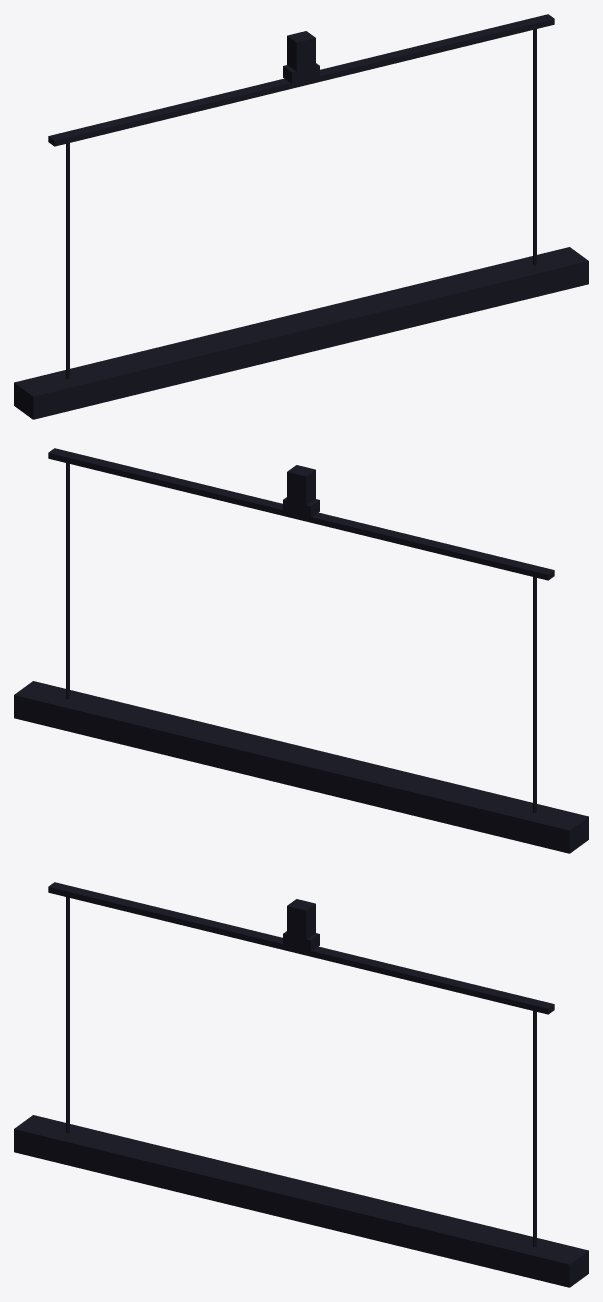
Rendered from SM_Build_Schienenleuchte_Lichtleiste.fbx.
3 renders of one model, top to bottom at view 1: azimuth 30°, elevation 25°; view 2: azimuth 150°, elevation 25°; view 3: azimuth 330°, elevation 25°, orthographic.
Parts seen in each view (by area): view 1: Schienenleuchte_Lichtleiste; view 2: Schienenleuchte_Lichtleiste; view 3: Schienenleuchte_Lichtleiste.
Boxes of the visible parts, x1,y1,x2,y2 form: Schienenleuchte_Lichtleiste: [14, 14, 588, 419]; Schienenleuchte_Lichtleiste: [14, 448, 588, 853]; Schienenleuchte_Lichtleiste: [14, 882, 588, 1287].
Size of the model in its own units: 1 by 0.53 by 0.06.
